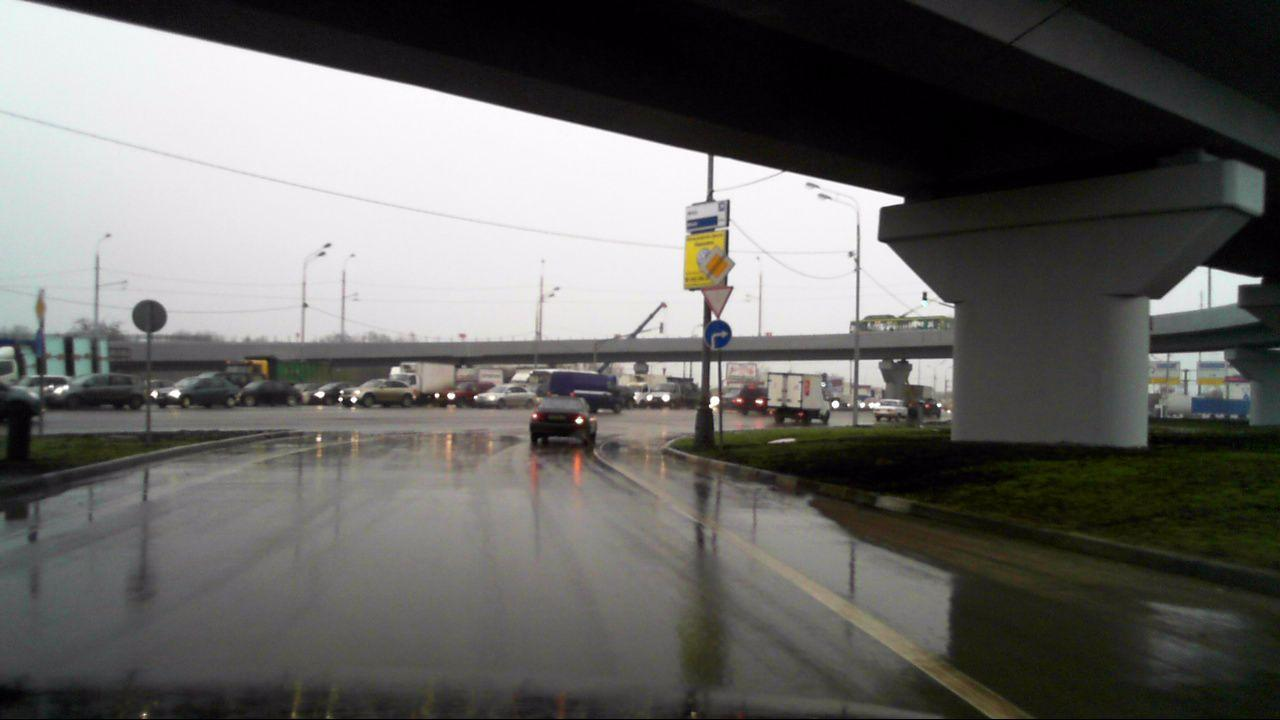2_1: (34, 292, 47, 323)
2_2: (700, 247, 736, 284)
2_4: (699, 286, 734, 319)
4_1_1: (33, 331, 47, 358)
4_1_2: (704, 320, 731, 349)
